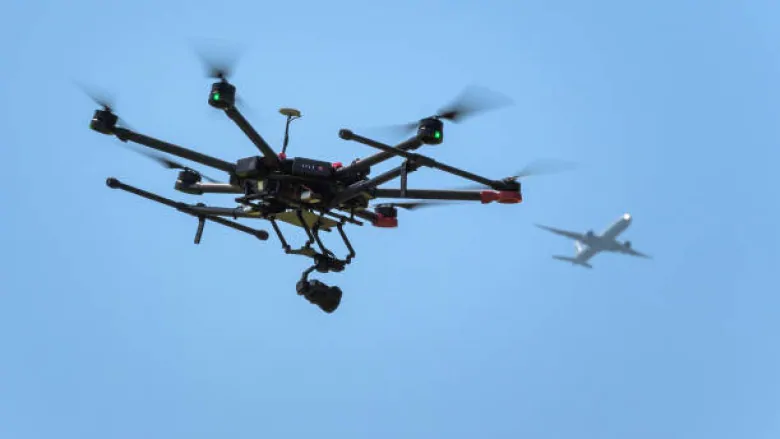drone: (56, 21, 563, 314)
